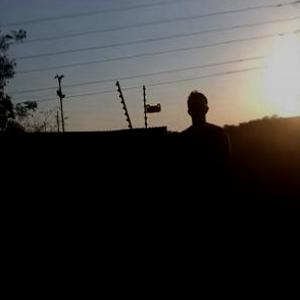follow: (175, 78, 241, 290)
